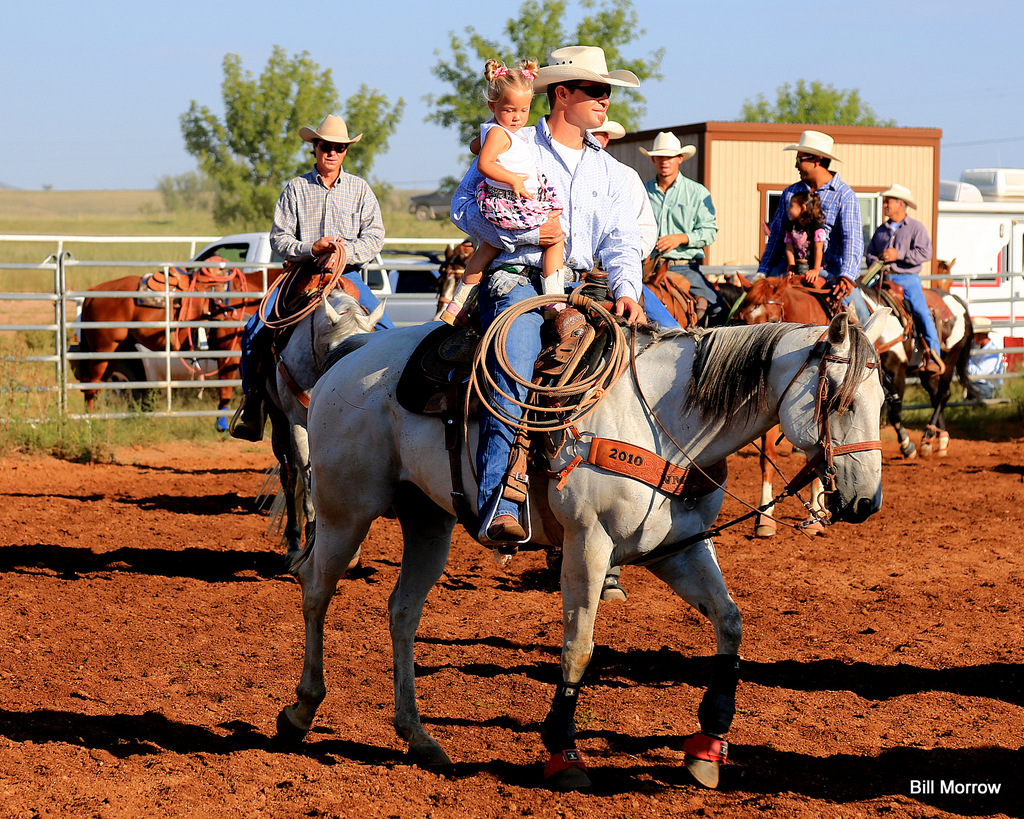Person: (442, 41, 690, 552), (227, 110, 397, 443), (436, 54, 573, 328), (750, 130, 870, 327), (643, 123, 735, 327), (862, 181, 944, 374), (956, 318, 1006, 404)
